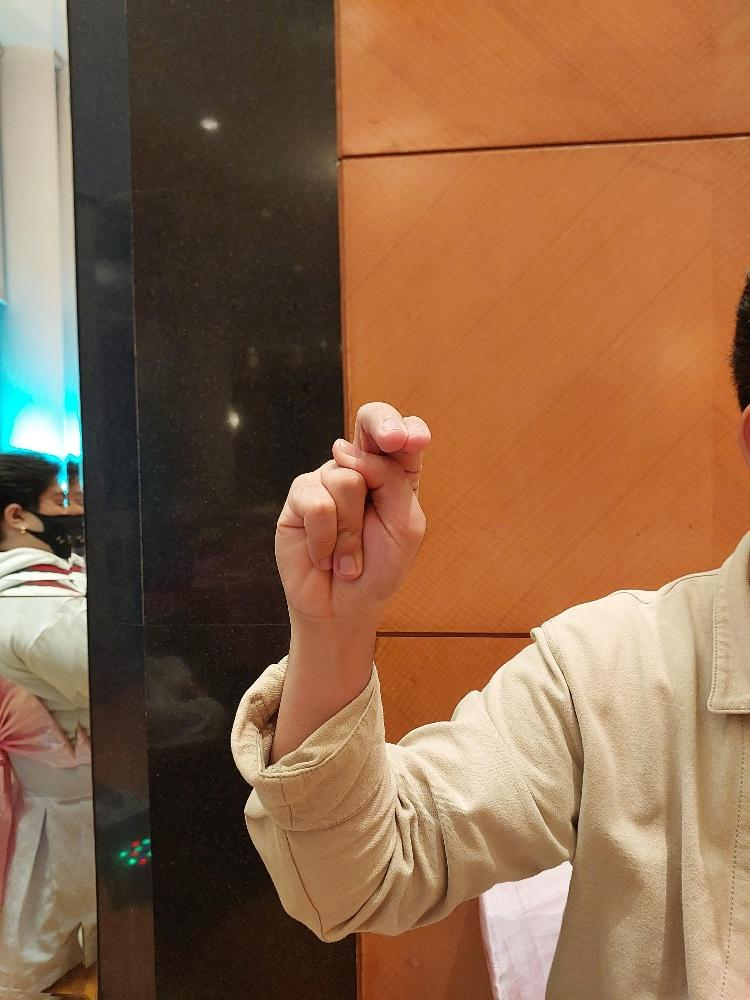n: (272, 396, 432, 624)
